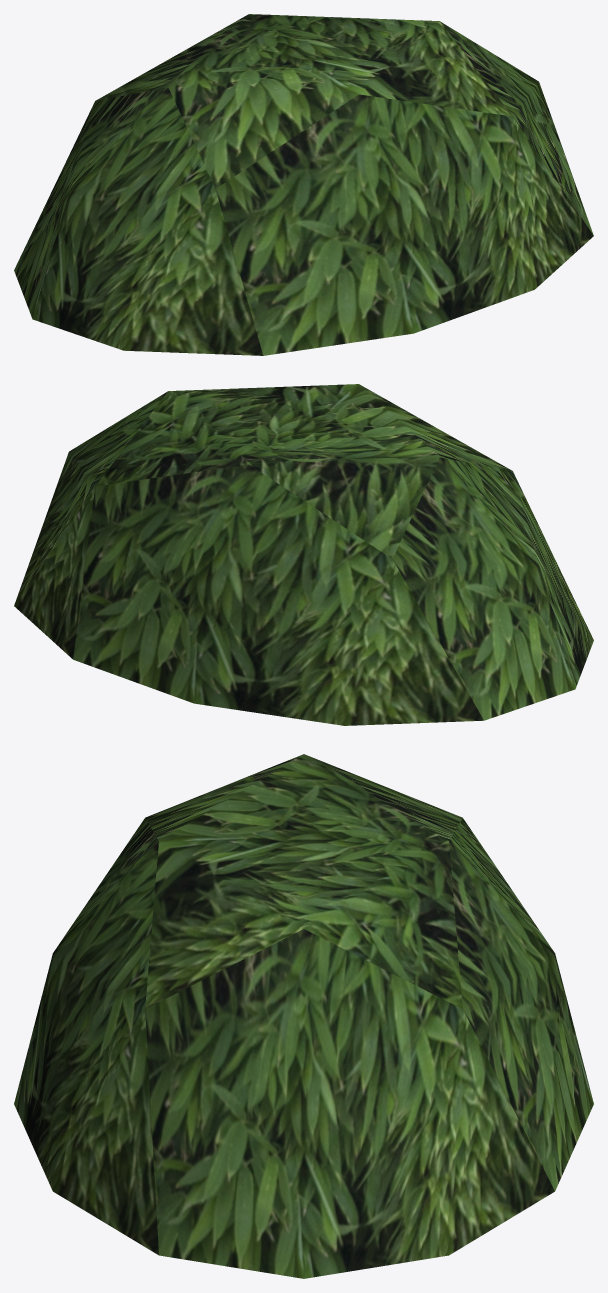
The model's file is bush.FBX.
3 renders of one model, top to bottom at view 1: azimuth 30°, elevation 25°; view 2: azimuth 150°, elevation 25°; view 3: azimuth 270°, elevation 25°, orthographic. The views are drawn at different scales.
Visible parts, largest first — view 1: bush; view 2: bush; view 3: bush.
Boxes of the visible parts, x1,y1,x2,y2 form: bush: (14, 14, 593, 355); bush: (14, 384, 593, 725); bush: (14, 754, 593, 1278).
Size of the model in its own units: 115 by 40.15 by 80.37.
